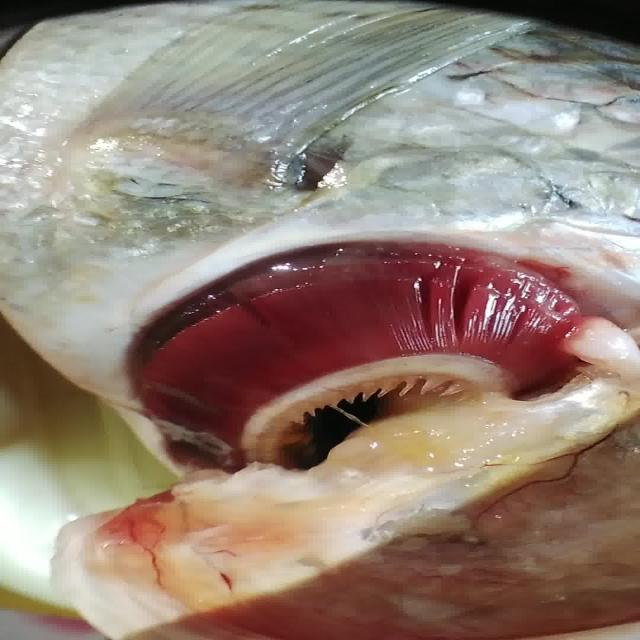Fresh: (93, 227, 612, 499)
